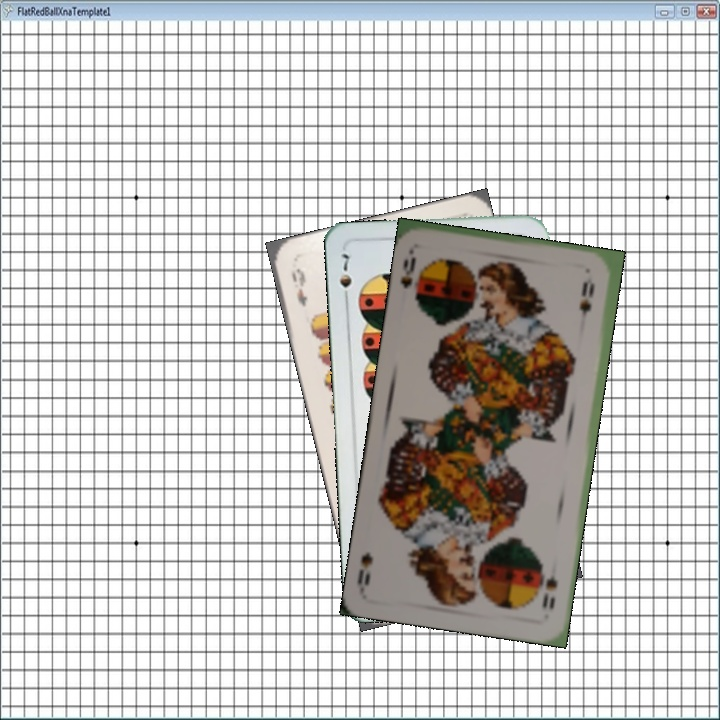E9: (287, 264, 310, 310)
S7: (335, 249, 355, 306)
SO: (396, 245, 426, 306), (538, 571, 560, 612)
